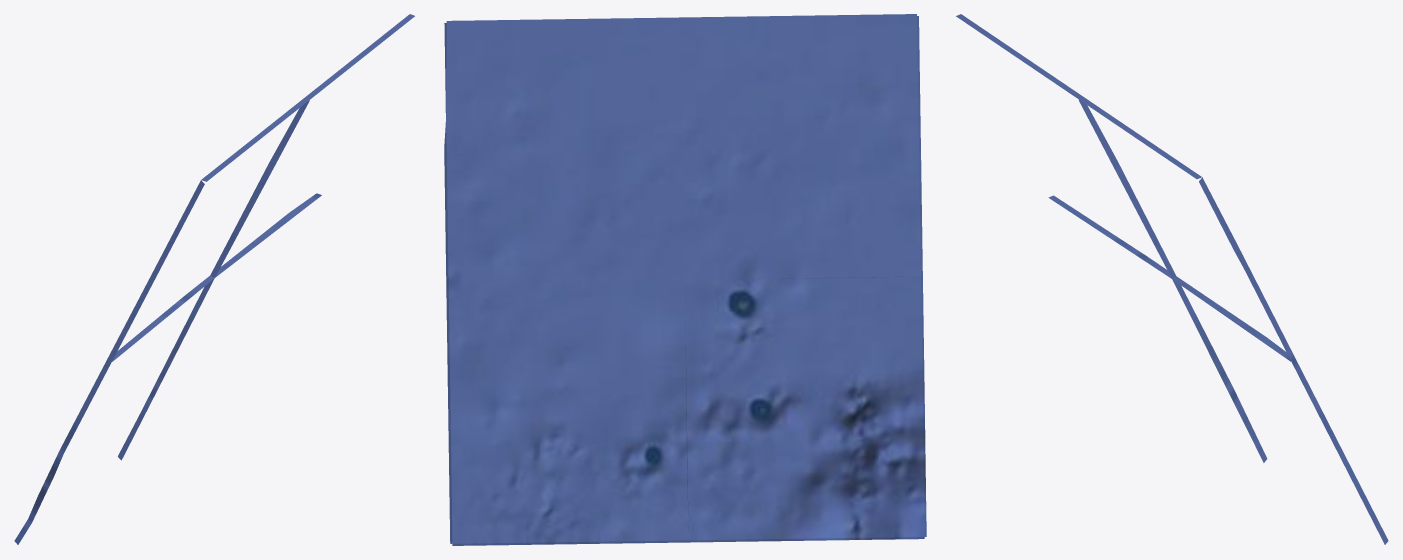
The picture shows the model from 3 angles, left to right: view 1: azimuth 30°, elevation 25°; view 2: azimuth 150°, elevation 25°; view 3: azimuth 270°, elevation 25°; orthographic projection. The views are drawn at different scales.
Bounding box in the file's own units: 78460 × 71352 × 67244.
1 material, 1 textured.
